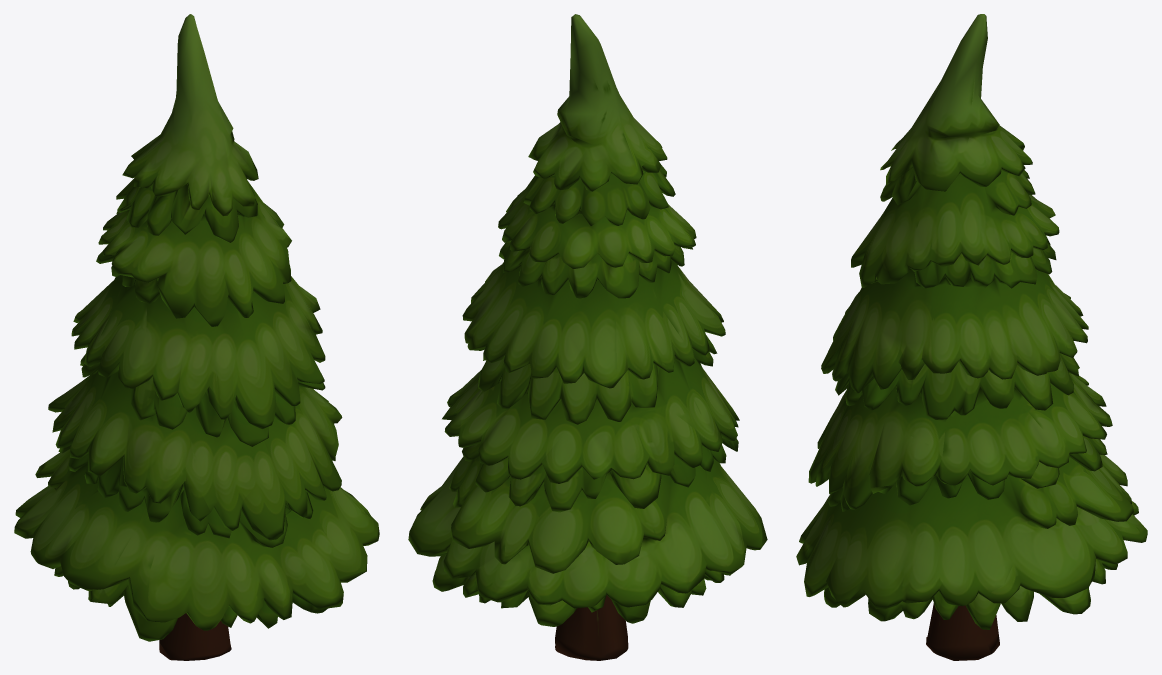
The model's file is tree.opt.glb.
3 renders of one model, left to right at view 1: azimuth 30°, elevation 25°; view 2: azimuth 150°, elevation 25°; view 3: azimuth 270°, elevation 25°, orthographic.
Bounding box in the file's own units: 0.6074 × 1.19 × 0.5989.
1 material, 1 textured.
